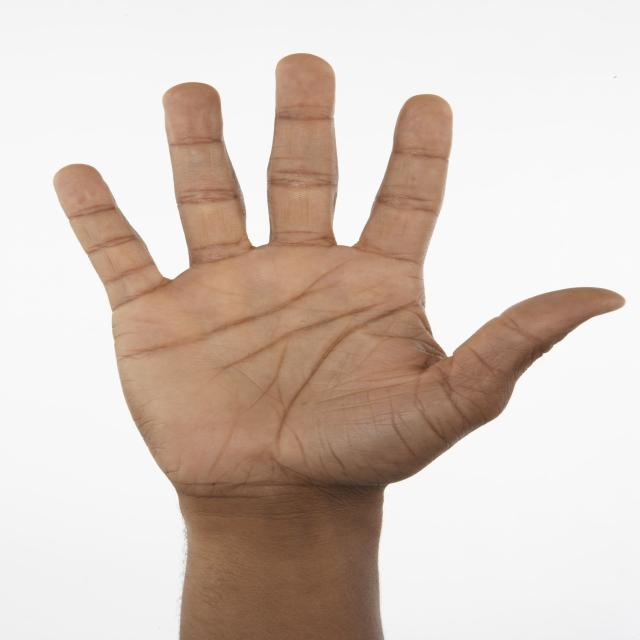hand: (53, 53, 625, 640)
